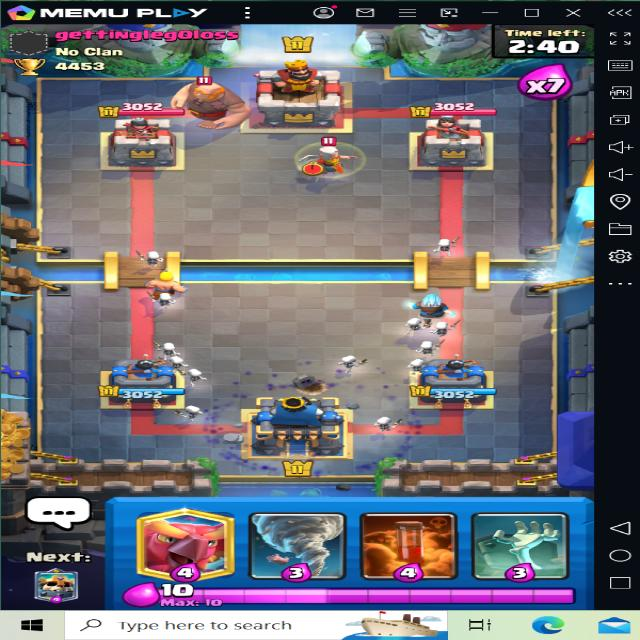battle-healer: (289, 132, 371, 185)
giant: (173, 77, 250, 133)
